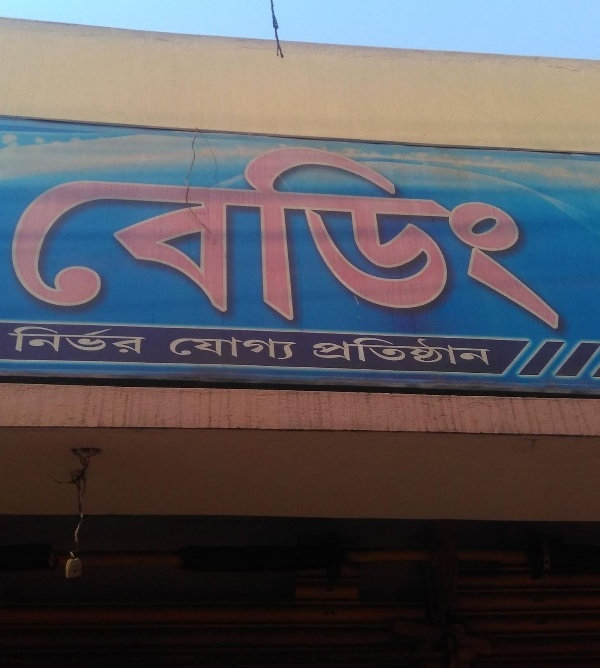text: (33, 135, 48, 330), (49, 135, 64, 330), (65, 135, 80, 330), (81, 135, 96, 330), (97, 135, 112, 330), (113, 135, 128, 330), (129, 135, 144, 330), (145, 135, 160, 330), (161, 135, 176, 330), (177, 135, 192, 330), (193, 135, 208, 330), (209, 135, 224, 330), (225, 135, 240, 330), (241, 135, 256, 330), (257, 135, 272, 330), (273, 135, 288, 330), (289, 135, 304, 330), (305, 135, 320, 330), (321, 135, 336, 330), (337, 135, 352, 330), (353, 135, 368, 330), (369, 135, 384, 330), (385, 135, 400, 330), (401, 135, 416, 330), (417, 135, 432, 330), (433, 135, 448, 330), (449, 135, 464, 330), (465, 135, 480, 330), (481, 135, 496, 330), (497, 135, 512, 330), (513, 135, 528, 330), (529, 135, 544, 330), (545, 135, 560, 330), (561, 135, 570, 330), (17, 324, 32, 355), (33, 324, 48, 355), (49, 324, 64, 355), (65, 324, 80, 355), (81, 324, 96, 355), (97, 324, 112, 355), (113, 324, 128, 355), (129, 324, 144, 355), (321, 336, 336, 366), (337, 336, 352, 366), (353, 336, 368, 366), (369, 336, 384, 366), (385, 336, 400, 366), (401, 336, 416, 366), (417, 336, 432, 366), (433, 336, 448, 366), (449, 336, 464, 366), (465, 336, 480, 366), (177, 336, 192, 360), (193, 336, 208, 360), (209, 336, 224, 360), (225, 336, 240, 360), (241, 336, 256, 360), (257, 336, 272, 360), (273, 336, 288, 360), (481, 336, 493, 366), (6, 324, 16, 355), (289, 336, 299, 360), (312, 336, 320, 366), (171, 336, 176, 360), (145, 324, 147, 355)
